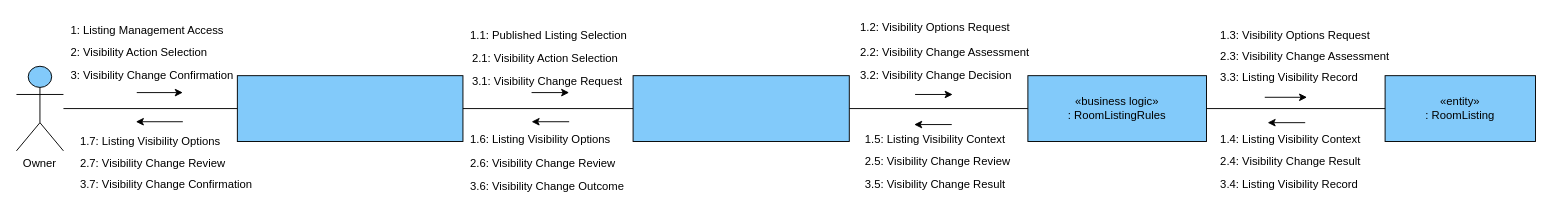
This 1552x213 diagram has some shape labels left out. The shapes that lost their labels are listed below. From the top down, each one's box as (x1, y1, x2, y2) in pixels, then its label:
(236, 75, 463, 141): «user interaction» : RoomListingManagementUI
(632, 75, 849, 141): «coordinator» : ListingManagementCoordinator
